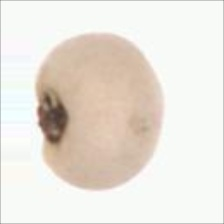L5: (36, 88, 72, 144), (150, 71, 166, 136)
L6: (33, 31, 164, 190)
